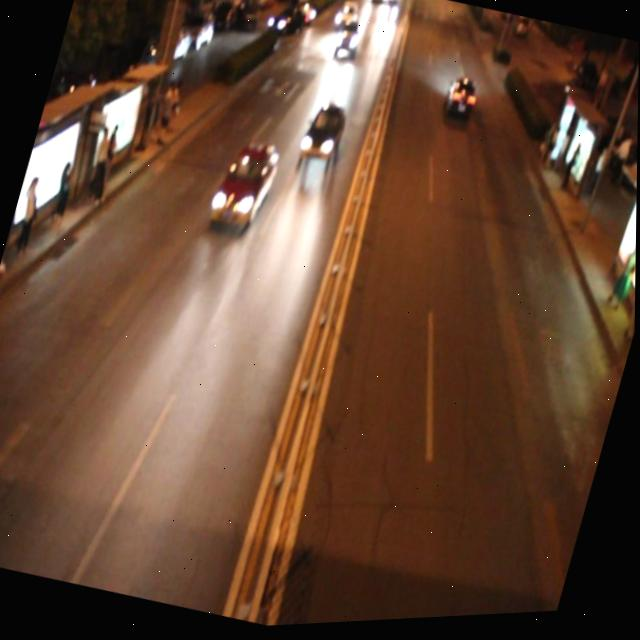car: (204, 135, 281, 236), (296, 100, 351, 172), (439, 75, 481, 127), (333, 17, 365, 61)
